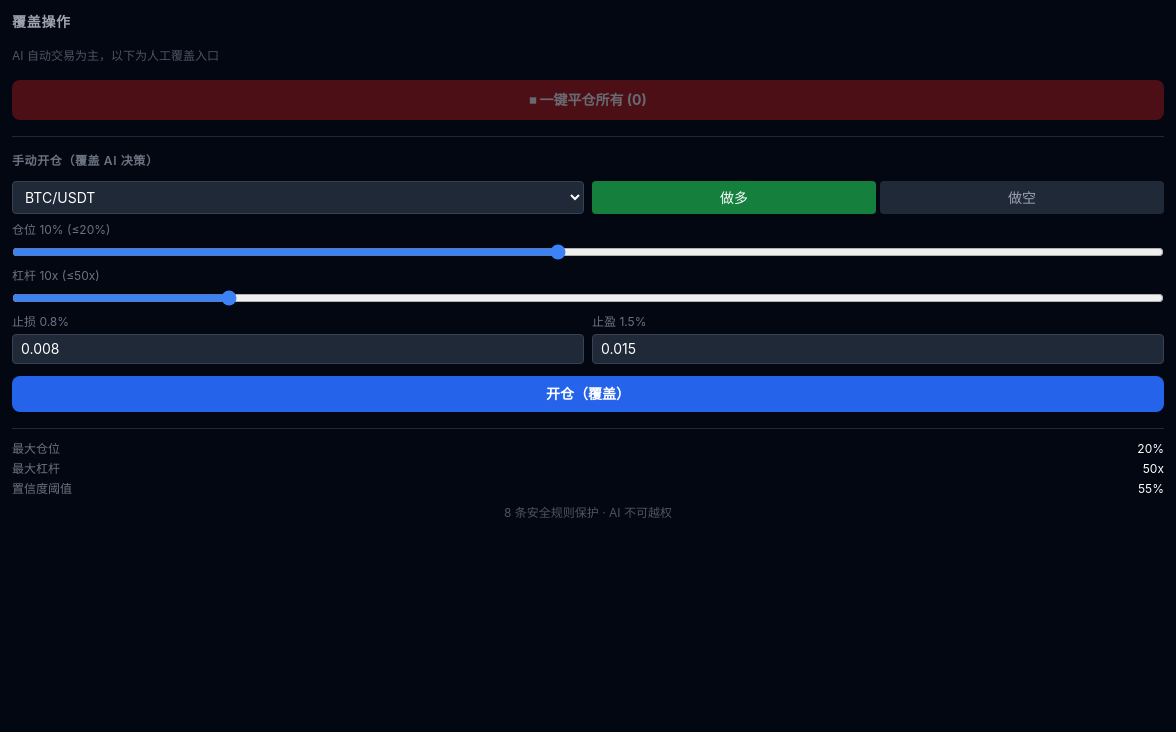
Test: ControlBar › shows rejection reason when broker refuses the order
Click the button "开仓（覆盖）": coordinates (588, 394) [12, 376, 1164, 412]
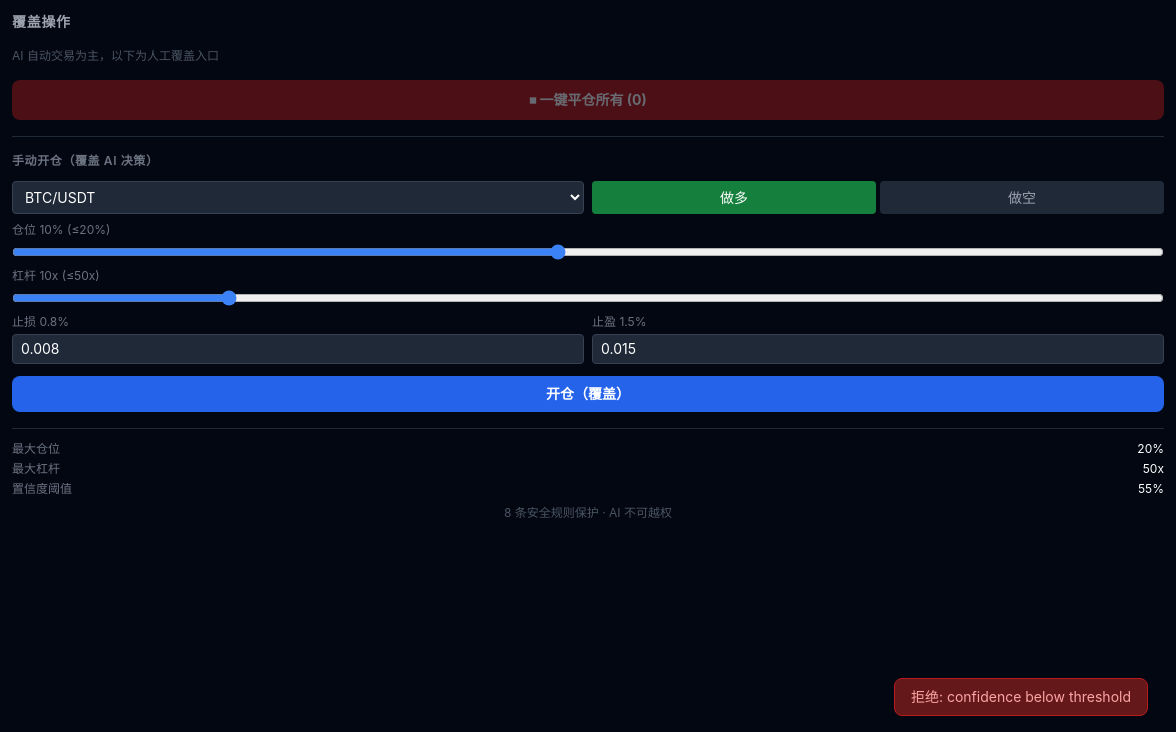
Expected: the text "拒绝: confidence below threshold" is shown, [894, 678, 1148, 716]
